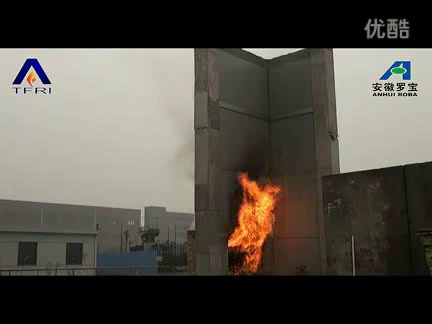fire: (227, 168, 285, 275)
